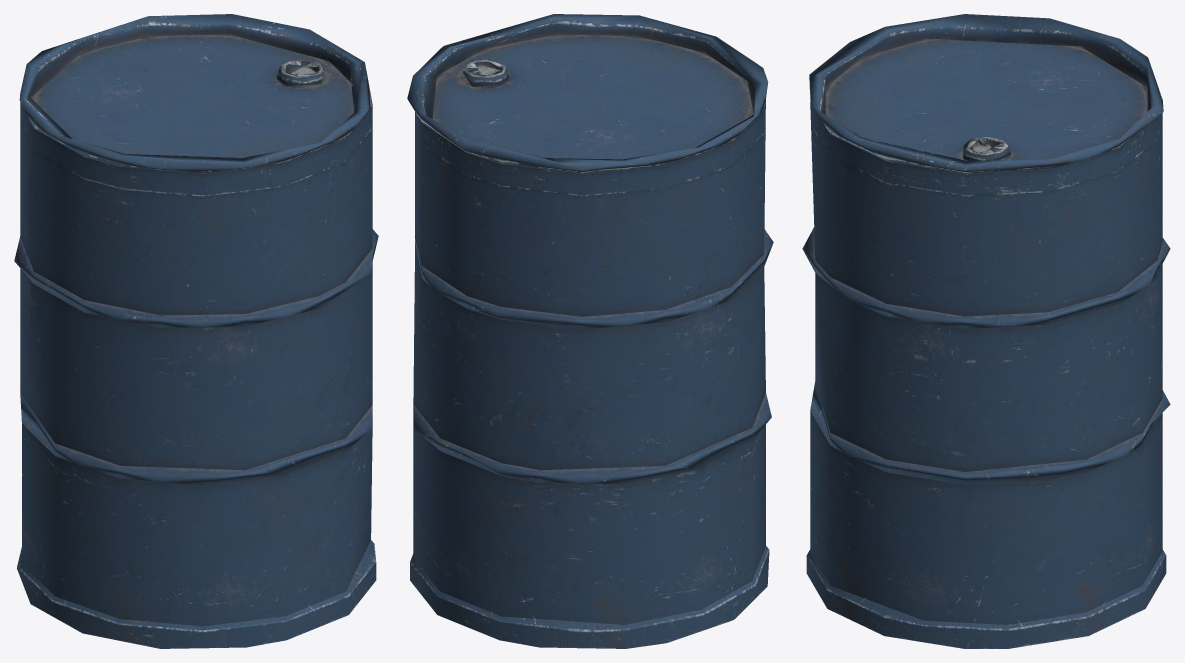
File: glb_barrel.5ad35a7b.glb
3 views of the same model, side by side, from view 1: azimuth 30°, elevation 25°; view 2: azimuth 150°, elevation 25°; view 3: azimuth 270°, elevation 25° (orthographic).
Parts seen in each view (by area): view 1: barrel_03; view 2: barrel_03; view 3: barrel_03.
Part boxes in pixels (x1,y1,x2,y2): barrel_03: (14, 14, 378, 648); barrel_03: (407, 14, 773, 648); barrel_03: (802, 14, 1170, 648).
Bounding box in the file's own units: 0.6265 × 0.9305 × 0.6386.
Materials: 1 (1 with a texture image).
